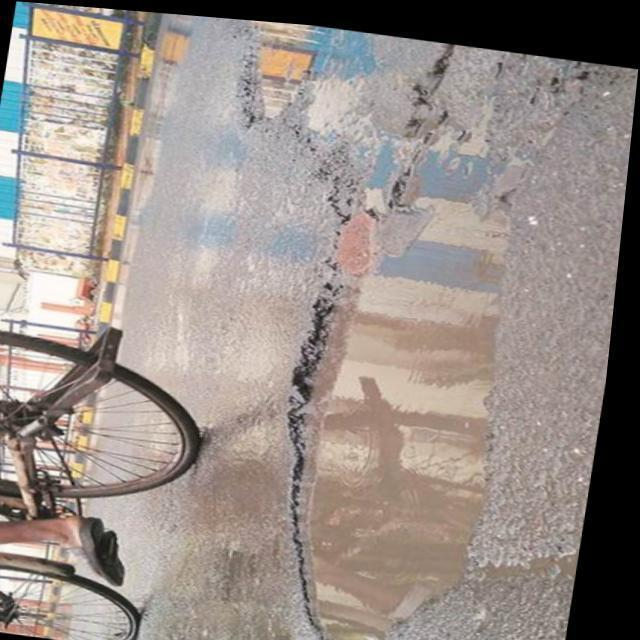Pothole: (282, 42, 602, 640), (236, 21, 385, 161)
